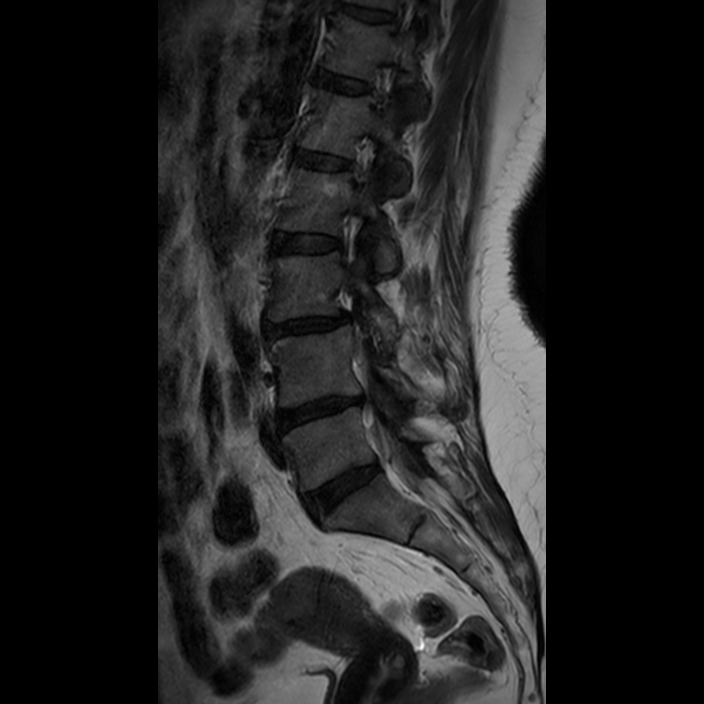LFS0: (321, 205, 373, 277), (337, 126, 385, 199)
